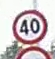limite 40: (12, 8, 50, 43)
